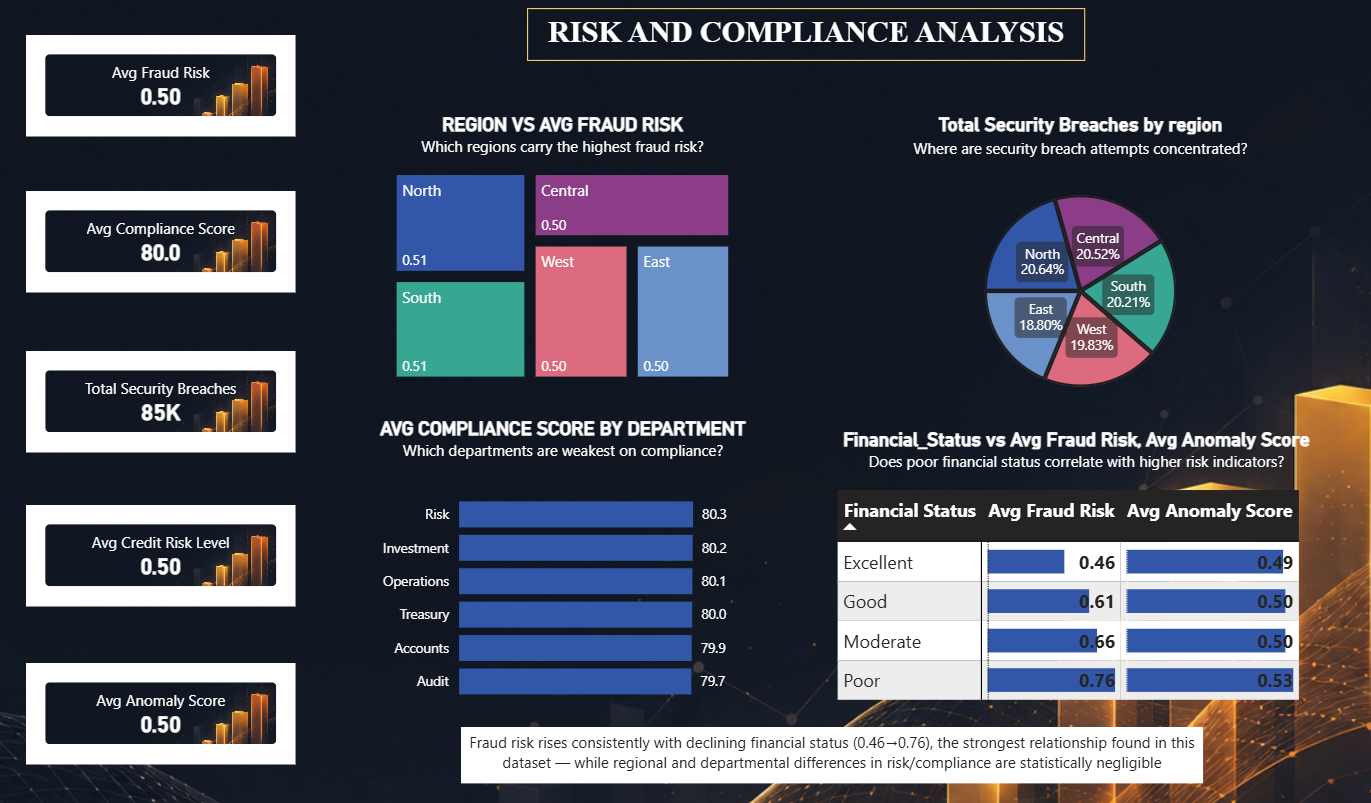

The page's visual inventory and layout, read from the dashboard file:
{"tool":"powerbi","page":{"name":"Risk&Compliance","canvas":[1280,720],"ordinal":1},"visuals":[{"type":"cardVisual","fields":{"Data":["public financial_management.Avg_Fraud_Risk"]},"box":[26.6,34.6,239.4,89.6],"z":0},{"type":"cardVisual","fields":{"Data":["public financial_management.Avg Compliance Score"]},"box":[26.6,172.9,239.4,89.6],"z":1000},{"type":"cardVisual","fields":{"Data":["public financial_management.Total Security Breaches"]},"box":[26.6,314.8,239.4,89.6],"z":2000},{"type":"cardVisual","fields":{"Data":["public financial_management.Avg Credit Risk Level"]},"box":[26.6,451.3,239.4,89.6],"z":3000},{"type":"cardVisual","fields":{"Data":["public financial_management.Avg Anomaly Score"]},"box":[26.6,591.4,239.4,89.6],"z":4000},{"type":"textbox","box":[470.8,10.6,494.8,47],"z":5000},{"type":"treemap","title":"REGION VS AVG FRAUD RISK","fields":{"Group":["public financial_management.region"],"Values":["public financial_management.Avg_Fraud_Risk"]},"box":[350.2,103.7,304.1,238.5],"z":6000},{"type":"clusteredBarChart","title":"AVG COMPLIANCE SCORE BY DEPARTMENT","fields":{"Category":["public financial_management.department"],"Y":["public financial_management.Avg Compliance Score"]},"box":[331.6,373.3,342.3,263.3],"z":7000},{"type":"pieChart","fields":{"Category":["public financial_management.region"],"Y":["public financial_management.Total Security Breaches"]},"box":[794.5,103.7,334.3,279.3],"z":8000},{"type":"pivotTable","title":"Financial_Status vs Avg Fraud Risk, Avg Anomaly Score","fields":{"Rows":["public financial_management.financial_status"],"Values":["public financial_management.Avg_Fraud_Risk","public financial_management.Avg Anomaly Score"]},"box":[741.3,383.1,433.6,253.6],"z":9000},{"type":"textbox","box":[412.3,648.2,657.9,49.7],"z":10000}]}

Visuals, with their boxes on the page's 1280x720 design canvas (x1, y1, x2, y2). These are canvas units, not pixel positions in the 1371x803 screenshot, which may show the page scaled, cropped or inside an application window:
cardVisual - public financial_management.Avg_Fraud_Risk: box(27, 35, 266, 124)
cardVisual - public financial_management.Avg Compliance Score: box(27, 173, 266, 262)
cardVisual - public financial_management.Total Security Breaches: box(27, 315, 266, 404)
cardVisual - public financial_management.Avg Credit Risk Level: box(27, 451, 266, 541)
cardVisual - public financial_management.Avg Anomaly Score: box(27, 591, 266, 681)
textbox: box(471, 11, 966, 58)
"REGION VS AVG FRAUD RISK" treemap: box(350, 104, 654, 342)
"AVG COMPLIANCE SCORE BY DEPARTMENT" clusteredBarChart: box(332, 373, 674, 637)
pieChart - public financial_management.region x public financial_management.Total Security Breaches: box(794, 104, 1129, 383)
"Financial_Status vs Avg Fraud Risk, Avg Anomaly Score" pivotTable: box(741, 383, 1175, 637)
textbox: box(412, 648, 1070, 698)
